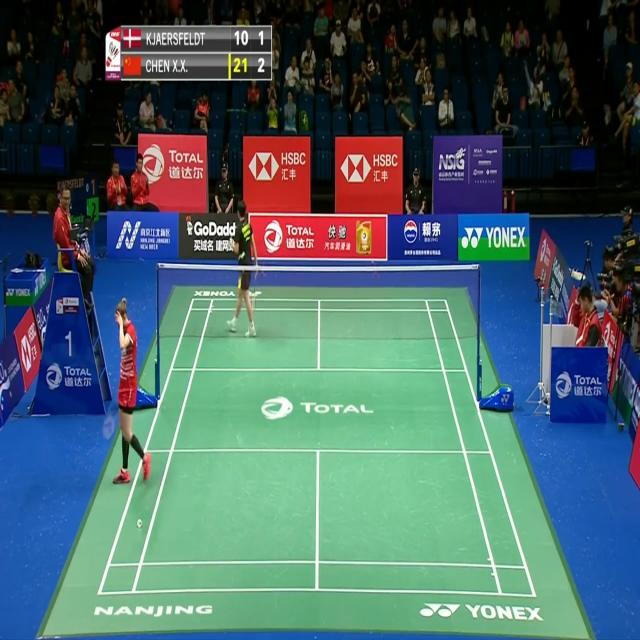Player1: (101, 288, 155, 493)
Player2: (223, 198, 265, 358)
